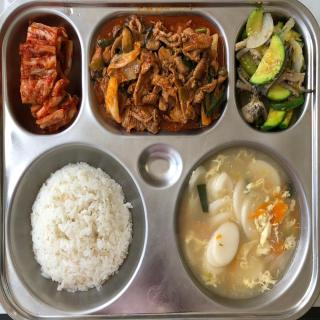Nasi: (25, 163, 139, 291)
